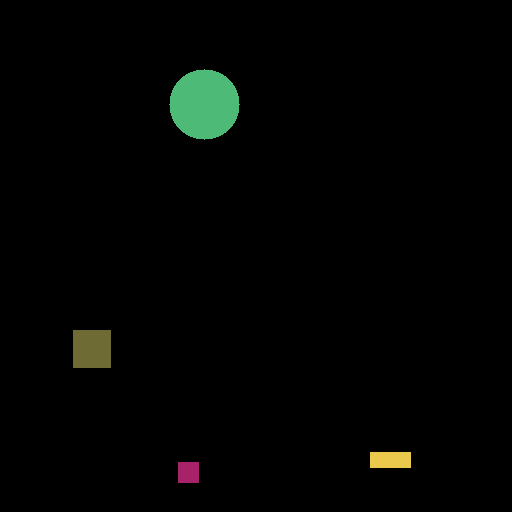circle: (168, 68, 241, 141)
side_rect: (366, 448, 412, 469)
square: (70, 324, 114, 372), (179, 461, 201, 483)
